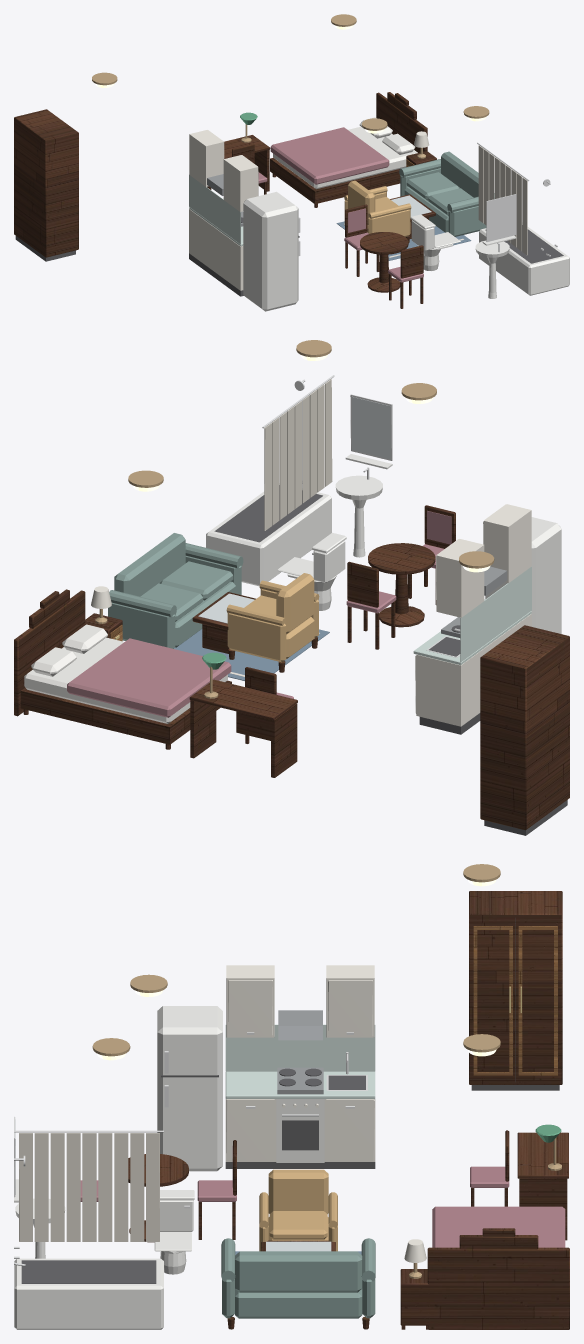
The model's file is apt_back_r.glb.
3 renders of one model, top to bottom at view 1: azimuth 30°, elevation 25°; view 2: azimuth 150°, elevation 25°; view 3: azimuth 270°, elevation 25°, orthographic. The views are drawn at different scales.
Visible parts, largest first — view 1: apt_back_r_dkwood, apt_back_r_appliance, apt_back_r_cream, apt_back_r_fabric3, apt_back_r_porcelain, apt_back_r_fabric, apt_back_r_cloth, apt_back_r_fabric2, apt_back_r_linen, apt_back_r_tile_k, apt_back_r_chrome, apt_back_r_dark (+2 smaller); view 2: apt_back_r_dkwood, apt_back_r_cream, apt_back_r_fabric, apt_back_r_porcelain, apt_back_r_fabric3, apt_back_r_cloth, apt_back_r_fabric2, apt_back_r_linen, apt_back_r_tile_k, apt_back_r_appliance, apt_back_r_dark, apt_back_r_mirror (+4 smaller); view 3: apt_back_r_dkwood, apt_back_r_cloth, apt_back_r_cream, apt_back_r_appliance, apt_back_r_porcelain, apt_back_r_fabric, apt_back_r_tile_k, apt_back_r_dark, apt_back_r_fabric3, apt_back_r_fabric2, apt_back_r_wood, apt_back_r_bronze (+3 smaller).
Boxes of the visible parts, bbox=[...] form: apt_back_r_dkwood: bbox=[14, 92, 436, 308]; apt_back_r_appliance: bbox=[243, 191, 298, 311]; apt_back_r_cream: bbox=[189, 130, 463, 290]; apt_back_r_fabric3: bbox=[258, 127, 423, 282]; apt_back_r_porcelain: bbox=[410, 214, 569, 298]; apt_back_r_fabric: bbox=[399, 151, 494, 236]; apt_back_r_cloth: bbox=[478, 145, 527, 255]; apt_back_r_fabric2: bbox=[344, 180, 411, 236]; apt_back_r_linen: bbox=[273, 117, 417, 189]; apt_back_r_tile_k: bbox=[189, 175, 243, 246]; apt_back_r_chrome: bbox=[298, 142, 557, 256]; apt_back_r_dark: bbox=[15, 217, 563, 296]; apt_back_r_dkwood: bbox=[14, 505, 569, 830]; apt_back_r_cream: bbox=[91, 504, 531, 726]; apt_back_r_fabric: bbox=[108, 533, 243, 648]; apt_back_r_porcelain: bbox=[206, 454, 392, 610]; apt_back_r_fabric3: bbox=[67, 510, 451, 717]; apt_back_r_cloth: bbox=[264, 379, 332, 530]; apt_back_r_fabric2: bbox=[226, 573, 319, 662]; apt_back_r_linen: bbox=[24, 624, 227, 723]; apt_back_r_tile_k: bbox=[413, 566, 531, 665]; apt_back_r_appliance: bbox=[485, 517, 561, 633]; apt_back_r_dark: bbox=[214, 485, 567, 835]; apt_back_r_mirror: bbox=[198, 396, 390, 623]; apt_back_r_dkwood: bbox=[128, 891, 569, 1329]; apt_back_r_cloth: bbox=[19, 1133, 159, 1241]; apt_back_r_cream: bbox=[225, 965, 426, 1262]; apt_back_r_appliance: bbox=[157, 1006, 324, 1171]; apt_back_r_porcelain: bbox=[14, 1179, 194, 1329]; apt_back_r_fabric: bbox=[221, 1238, 375, 1318]; apt_back_r_tile_k: bbox=[225, 1024, 375, 1098]; apt_back_r_dark: bbox=[21, 918, 559, 1283]; apt_back_r_fabric3: bbox=[80, 1146, 565, 1247]; apt_back_r_fabric2: bbox=[259, 1169, 337, 1251]; apt_back_r_wood: bbox=[473, 926, 557, 1075]; apt_back_r_bronze: bbox=[92, 864, 561, 1278].
Size of the model in its own units: 6.64 by 2.85 by 5.94.
20 materials, 2 textured.
